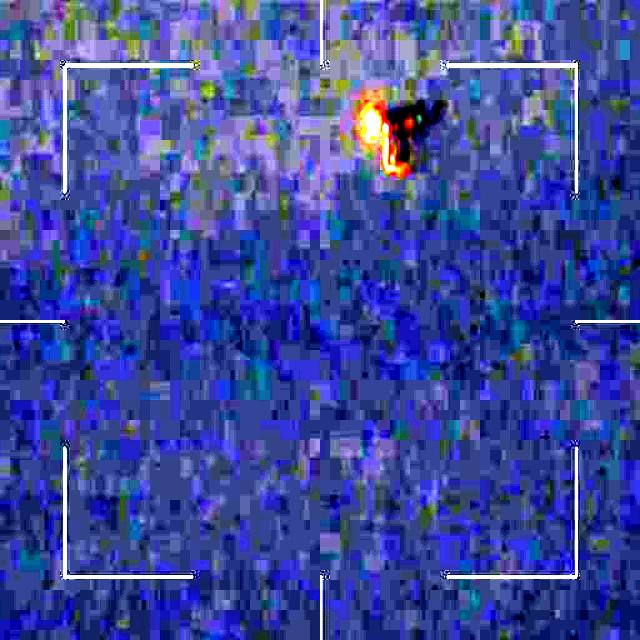bird: (360, 84, 448, 170)
